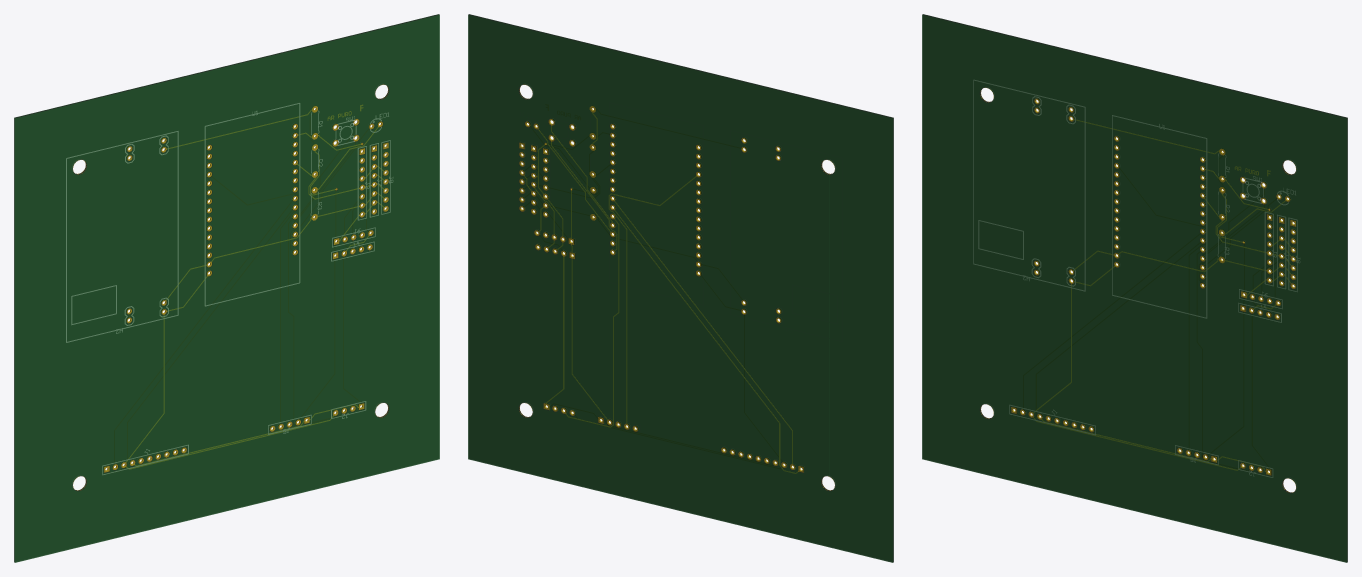
File: PCB_AIRPURE_2021-03-10.obj
The picture shows the model from 3 angles, left to right: view 1: azimuth 30°, elevation 25°; view 2: azimuth 150°, elevation 25°; view 3: azimuth 330°, elevation 25°; orthographic projection.
Visible parts, largest first — view 1: Solder_Top, Core, Top, U1, Solder_Bottom, GND; view 2: Solder_Bottom, Core, Solder_Top, U1; view 3: Solder_Top, Core, Top, U1, Solder_Bottom, GND.
Part boxes in pixels (x1=…): Solder_Top: x1=15, y1=15, x2=439, y2=562; Core: x1=14, y1=14, x2=439, y2=562; Top: x1=66, y1=103, x2=392, y2=474; U1: x1=207, y1=124, x2=297, y2=276; Solder_Bottom: x1=14, y1=14, x2=438, y2=561; GND: x1=134, y1=165, x2=384, y2=465; Solder_Bottom: x1=468, y1=15, x2=892, y2=562; Core: x1=468, y1=14, x2=893, y2=562; Solder_Top: x1=469, y1=14, x2=893, y2=561; U1: x1=610, y1=124, x2=700, y2=276; Solder_Top: x1=922, y1=15, x2=1346, y2=562; Core: x1=922, y1=14, x2=1347, y2=562; Top: x1=973, y1=80, x2=1299, y2=477; U1: x1=1114, y1=136, x2=1205, y2=288; Solder_Bottom: x1=923, y1=14, x2=1347, y2=561; GND: x1=1041, y1=239, x2=1291, y2=471.
Bounding box in the file's own units: 12.57 × 12.57 × 0.0503.
